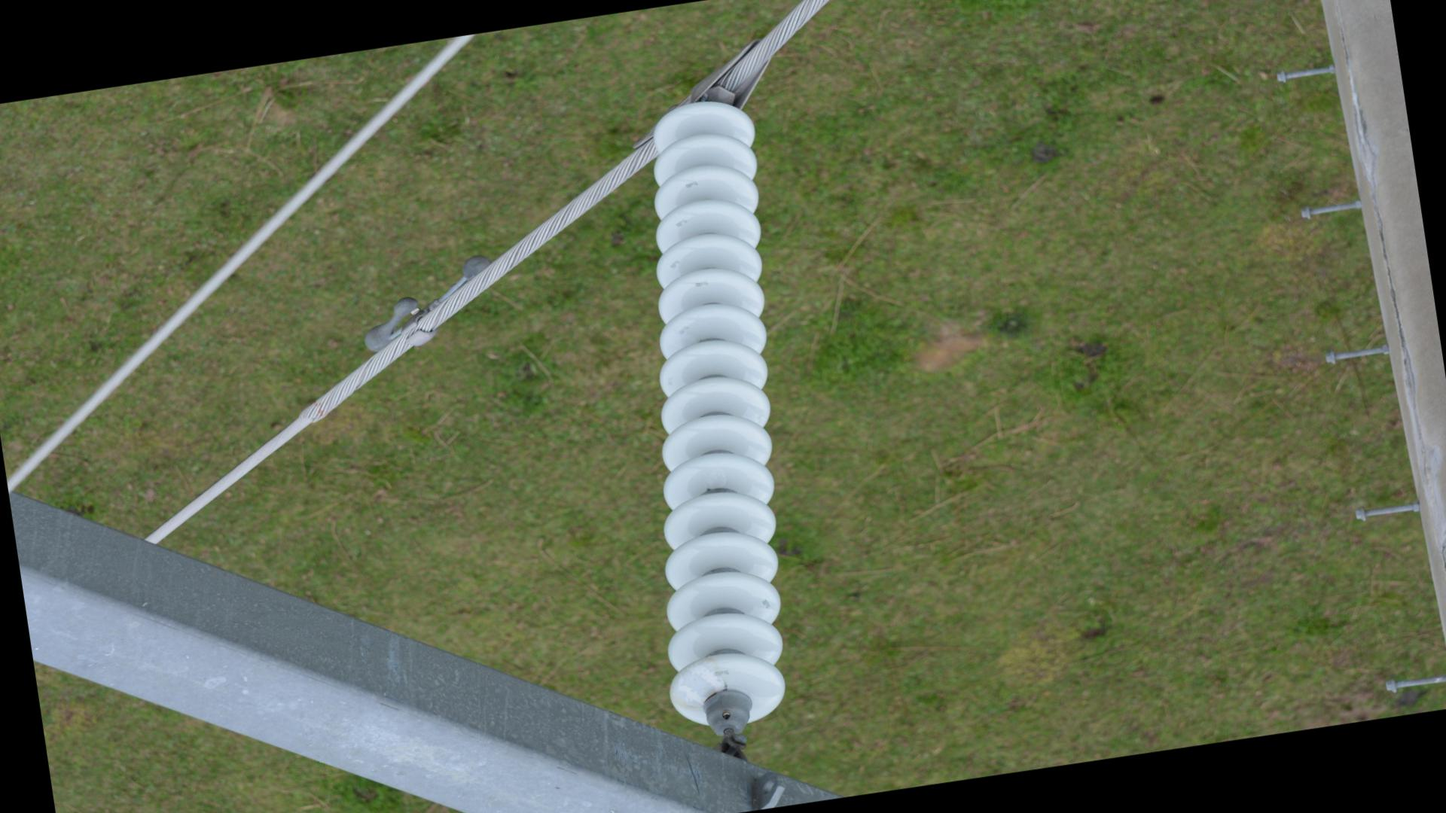damper: (349, 248, 508, 359)
